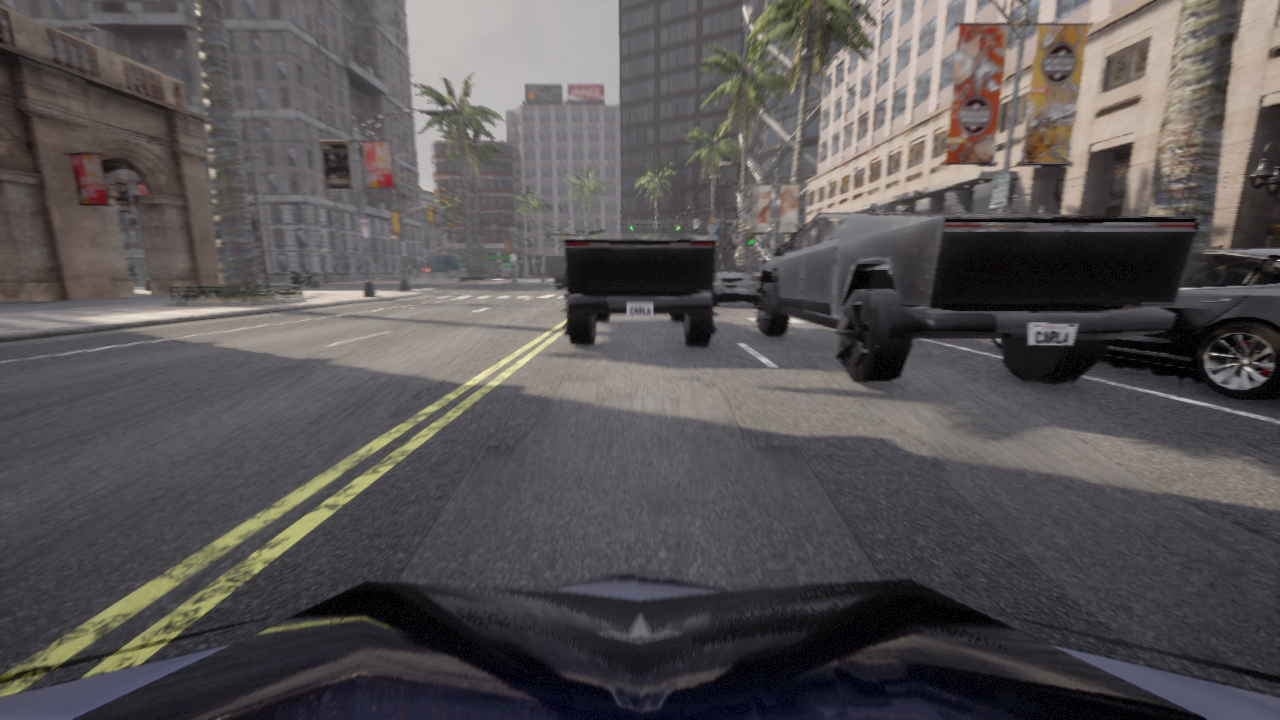cyclist: (0, 569, 1279, 719), (754, 213, 1202, 382), (992, 248, 1279, 399), (562, 229, 718, 346), (713, 269, 760, 306), (300, 273, 318, 286), (554, 272, 566, 288)
